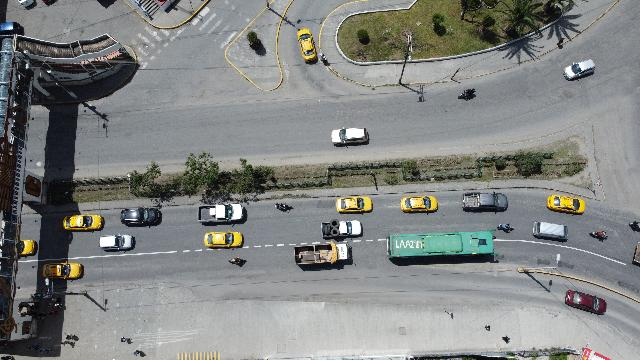Vehiculo: (198, 204, 248, 224), (566, 290, 606, 314), (462, 192, 508, 212), (121, 207, 163, 226), (547, 195, 585, 215), (322, 219, 362, 238), (532, 222, 568, 243), (42, 262, 84, 280), (331, 127, 369, 146), (64, 214, 104, 232), (204, 231, 243, 248), (336, 196, 372, 214), (99, 234, 135, 252), (400, 195, 438, 212), (563, 60, 595, 80), (298, 28, 316, 62)
